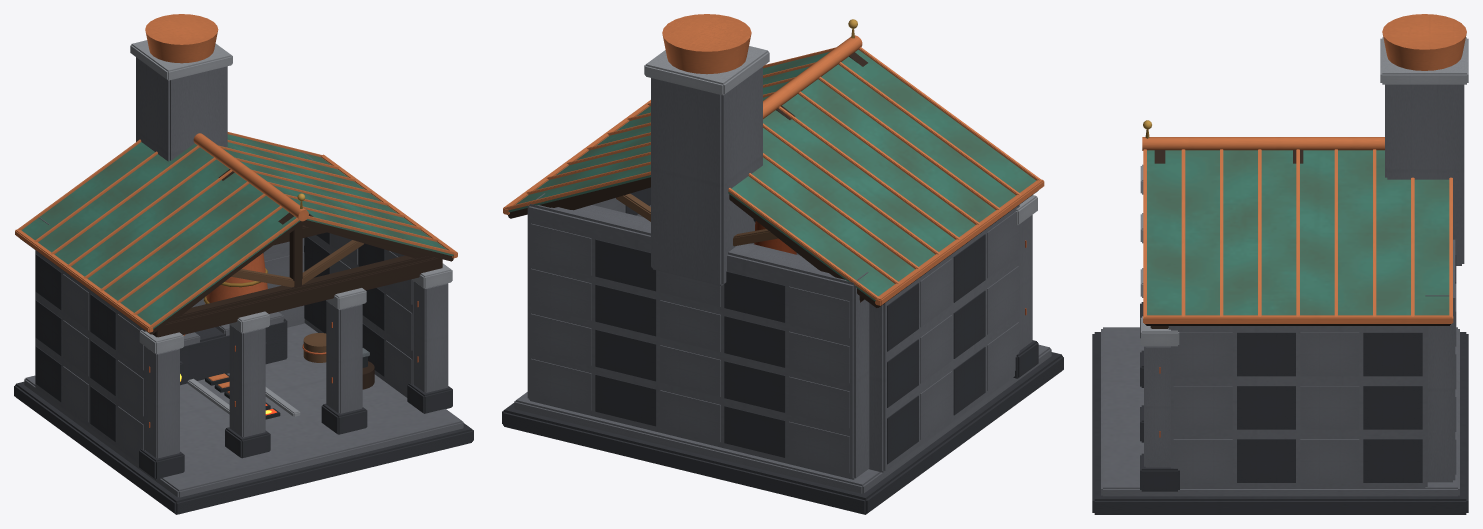
Rendered from forge_cobre_foundry.glb.
3 views of the same model, side by side, from view 1: azimuth 30°, elevation 25°; view 2: azimuth 150°, elevation 25°; view 3: azimuth 270°, elevation 25° (orthographic). The views are drawn at different scales.
Parts seen in each view (by area): view 1: forge_cobre_foundry; view 2: forge_cobre_foundry; view 3: forge_cobre_foundry.
Boxes of the visible parts, x1,y1,x2,y2 form: forge_cobre_foundry: (14, 14, 473, 514); forge_cobre_foundry: (502, 14, 1063, 514); forge_cobre_foundry: (1092, 14, 1468, 514).
Bounding box in the file's own units: 7.04 × 7.49 × 6.4.
Materials: 1 (1 with a texture image).
